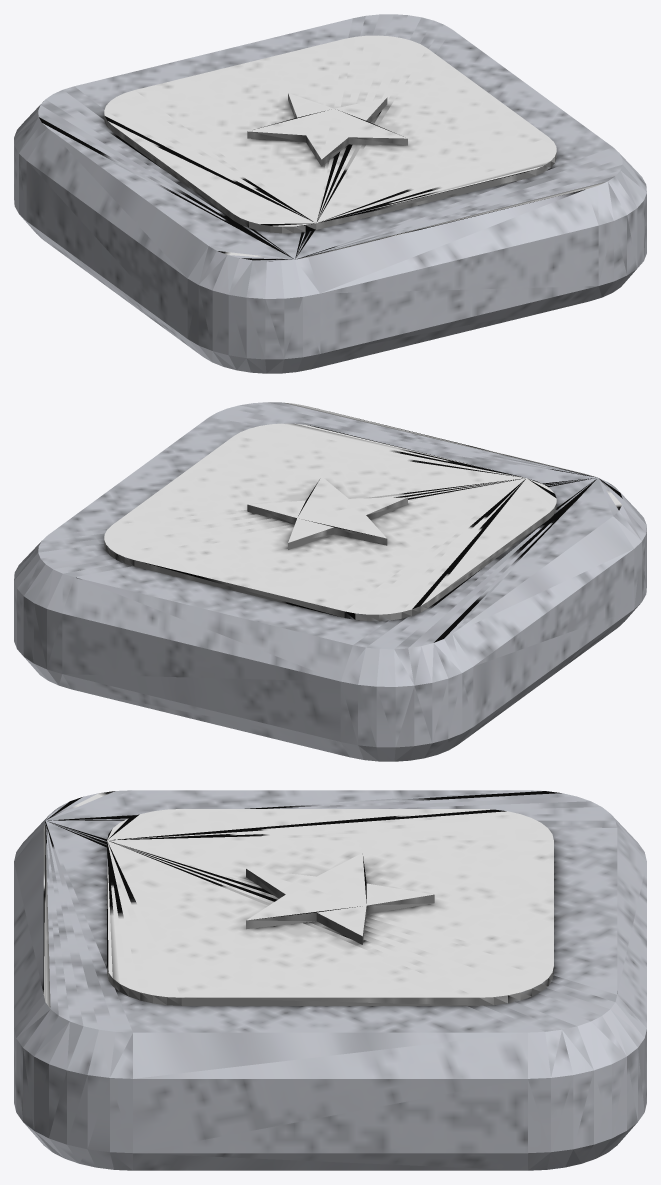
File: Tile_Start.glb
3 views of the same model, one above another, from view 1: azimuth 30°, elevation 25°; view 2: azimuth 150°, elevation 25°; view 3: azimuth 270°, elevation 25° (orthographic). The views are drawn at different scales.
Parts seen in each view (by area): view 1: Body, TintPlate, TintStar; view 2: Body, TintPlate, TintStar; view 3: Body, TintPlate, TintStar.
Boxes of the visible parts, left/top/right/bottom form: Body: left=14, top=14, right=646, bottom=373; TintPlate: left=104, top=35, right=556, bottom=233; TintStar: left=247, top=93, right=407, bottom=166; Body: left=14, top=402, right=646, bottom=761; TintPlate: left=104, top=423, right=556, bottom=621; TintStar: left=247, top=476, right=407, bottom=549; Body: left=14, top=790, right=646, bottom=1170; TintPlate: left=107, top=809, right=553, bottom=1005; TintStar: left=246, top=853, right=434, bottom=944.
Bounding box in the file's own units: 0.85 × 0.225 × 0.85.
Materials: 2 (2 with a texture image).
